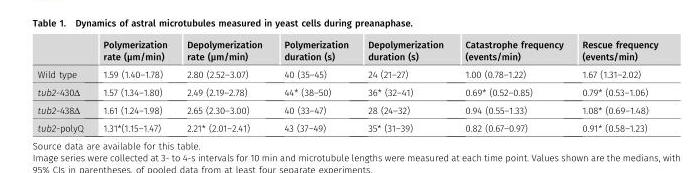table: (36, 37, 657, 134)
table column: (453, 37, 572, 134), (176, 37, 272, 134), (357, 37, 453, 134), (272, 37, 357, 134), (572, 37, 657, 134), (92, 37, 176, 134), (36, 37, 92, 134)
table column header: (36, 37, 657, 64)
table row: (36, 37, 657, 64), (36, 64, 657, 82), (36, 82, 657, 100), (36, 100, 657, 118), (36, 118, 657, 134)
